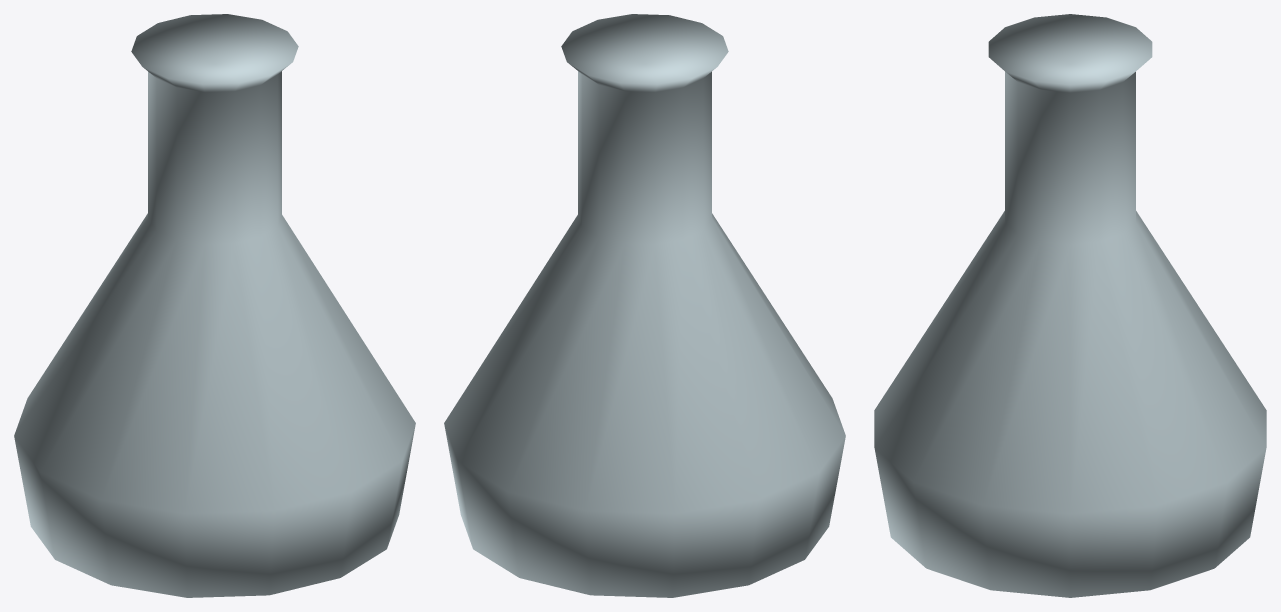
Rendered from apparatus_bubbling_flask.glb.
3 views of the same model, side by side, from view 1: azimuth 30°, elevation 25°; view 2: azimuth 150°, elevation 25°; view 3: azimuth 270°, elevation 25° (orthographic).
Parts seen in each view (by area): view 1: GD_apparatus_bubbling_flask__m0; view 2: GD_apparatus_bubbling_flask__m0; view 3: GD_apparatus_bubbling_flask__m0.
Boxes of the visible parts, bbox=[...] form: GD_apparatus_bubbling_flask__m0: bbox=[14, 14, 415, 597]; GD_apparatus_bubbling_flask__m0: bbox=[444, 14, 845, 597]; GD_apparatus_bubbling_flask__m0: bbox=[874, 14, 1266, 597].
Bounding box in the file's own units: 0.24 × 0.31 × 0.234.
